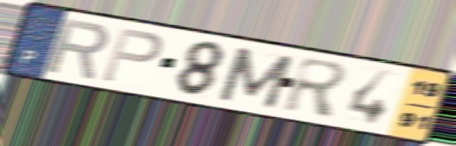4: (344, 68, 392, 127)
8: (171, 39, 229, 98)
M: (215, 44, 298, 111)
P: (98, 25, 165, 85)
R: (280, 55, 353, 120), (43, 15, 113, 82)
